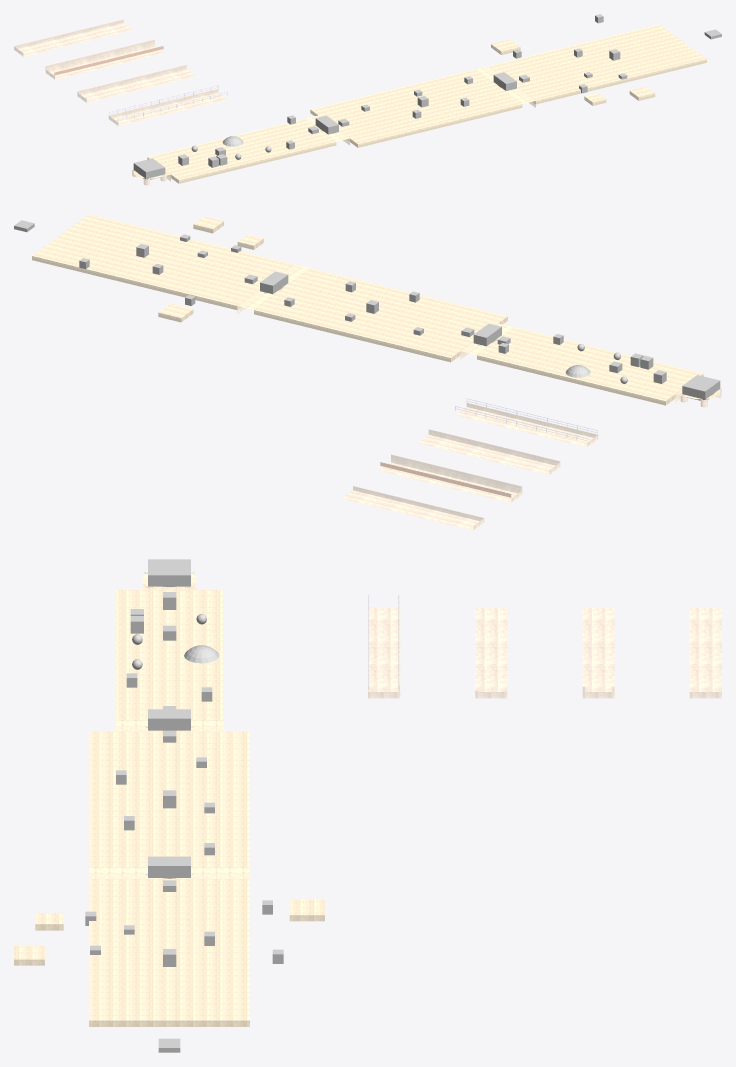
Rendered from level.gltf.
3 views of the same model, one above another, from view 1: azimuth 30°, elevation 25°; view 2: azimuth 150°, elevation 25°; view 3: azimuth 270°, elevation 25° (orthographic). The views are drawn at different scales.
Parts seen in each view (by area): view 1: S3_Floor, S2_Floor, S1_Floor, Safety_border, Safety_gutter, Safety_railings, Safety_none, Safety_railings_Railing, PS_FourFlames_01, Checkpoint_02, PC_TwoFlames_01, PC_TwoFlames_02 (+1 smaller); view 2: S3_Floor, S2_Floor, S1_Floor, Safety_border, Safety_gutter, Safety_none, Safety_railings, Safety_railings_Railing, PS_FourFlames_01, Checkpoint_02; view 3: S3_Floor, S2_Floor, S1_Floor, Safety_gutter, Safety_border, Safety_none, Safety_railings, Checkpoint_02, PS_FourFlames_01, PC_TwoFlames_02, PC_TwoFlames_01, Checkpoint_01 (+1 smaller).
Boxes of the visible parts, <box> form: S3_Floor: <box>488,24,706,104</box>; S2_Floor: <box>310,69,522,147</box>; S1_Floor: <box>147,119,336,183</box>; Safety_border: <box>45,39,164,79</box>; Safety_gutter: <box>77,65,195,102</box>; Safety_railings: <box>108,89,227,125</box>; Safety_none: <box>14,19,132,56</box>; Safety_railings_Railing: <box>109,85,227,121</box>; PS_FourFlames_01: <box>133,158,165,179</box>; Checkpoint_02: <box>475,66,535,107</box>; PC_TwoFlames_01: <box>315,115,338,134</box>; PC_TwoFlames_02: <box>493,72,516,90</box>; S3_Floor: <box>32,214,293,310</box>; S2_Floor: <box>254,268,507,362</box>; S1_Floor: <box>477,327,703,405</box>; Safety_border: <box>380,454,522,502</box>; Safety_gutter: <box>418,429,560,474</box>; Safety_none: <box>342,486,484,530</box>; Safety_railings: <box>456,403,598,447</box>; Safety_railings_Railing: <box>455,398,597,442</box>; PS_FourFlames_01: <box>682,375,720,400</box>; Checkpoint_02: <box>237,264,310,314</box>; S3_Floor: <box>89,879,249,1026</box>; S2_Floor: <box>89,731,249,867</box>; S1_Floor: <box>116,590,223,720</box>; Safety_gutter: <box>475,607,507,698</box>; Safety_border: <box>582,607,614,698</box>; Safety_none: <box>689,607,721,698</box>; Safety_railings: <box>368,607,400,698</box>; Checkpoint_02: <box>89,867,249,878</box>; PS_FourFlames_01: <box>148,559,190,586</box>; PC_TwoFlames_02: <box>148,856,190,878</box>; PC_TwoFlames_01: <box>148,709,190,730</box>; Checkpoint_01: <box>116,720,223,731</box>.
Size of the model in its own units: 426 by 15.6 by 264.
8 materials, 8 textured.
